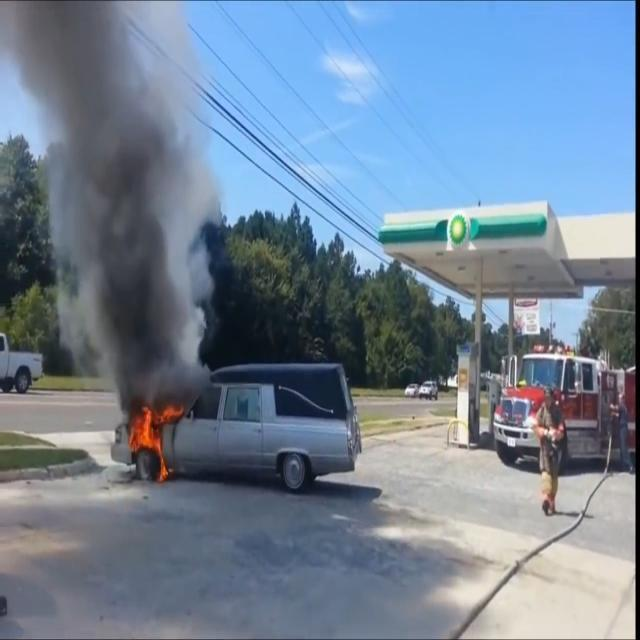fire: (124, 380, 188, 494)
